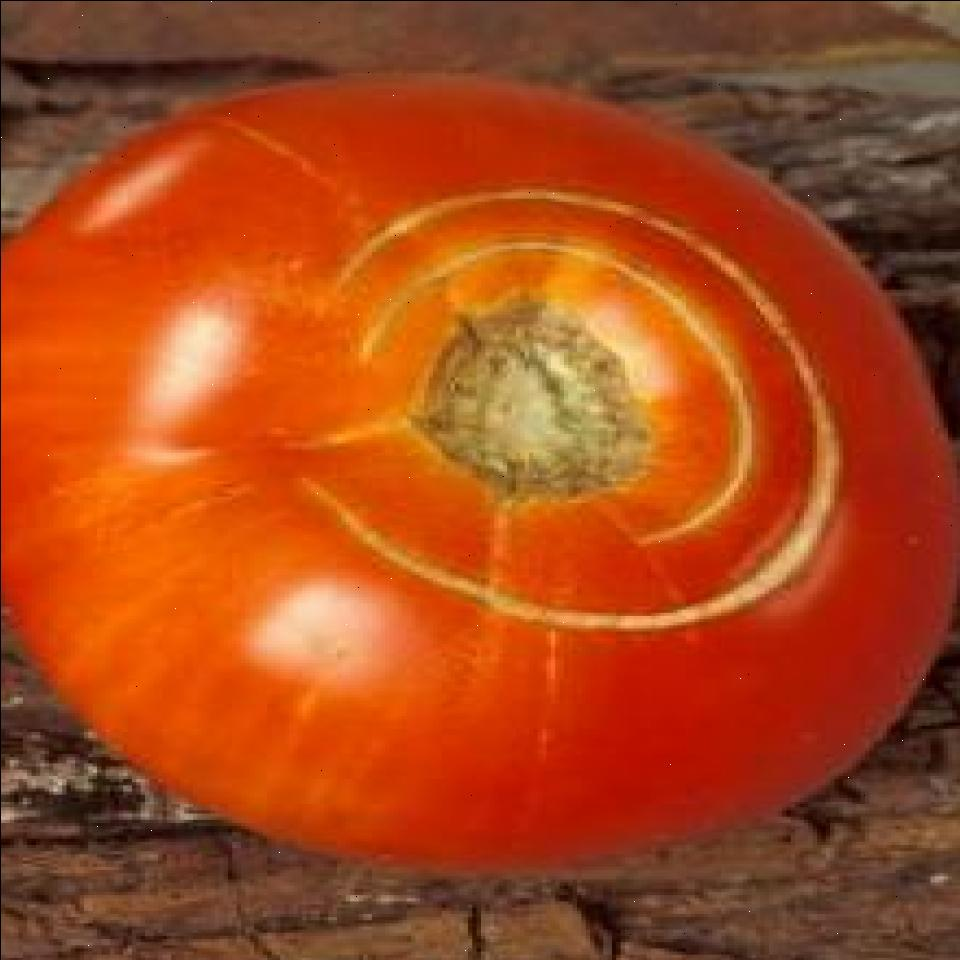Cracking: (258, 180, 848, 638)
